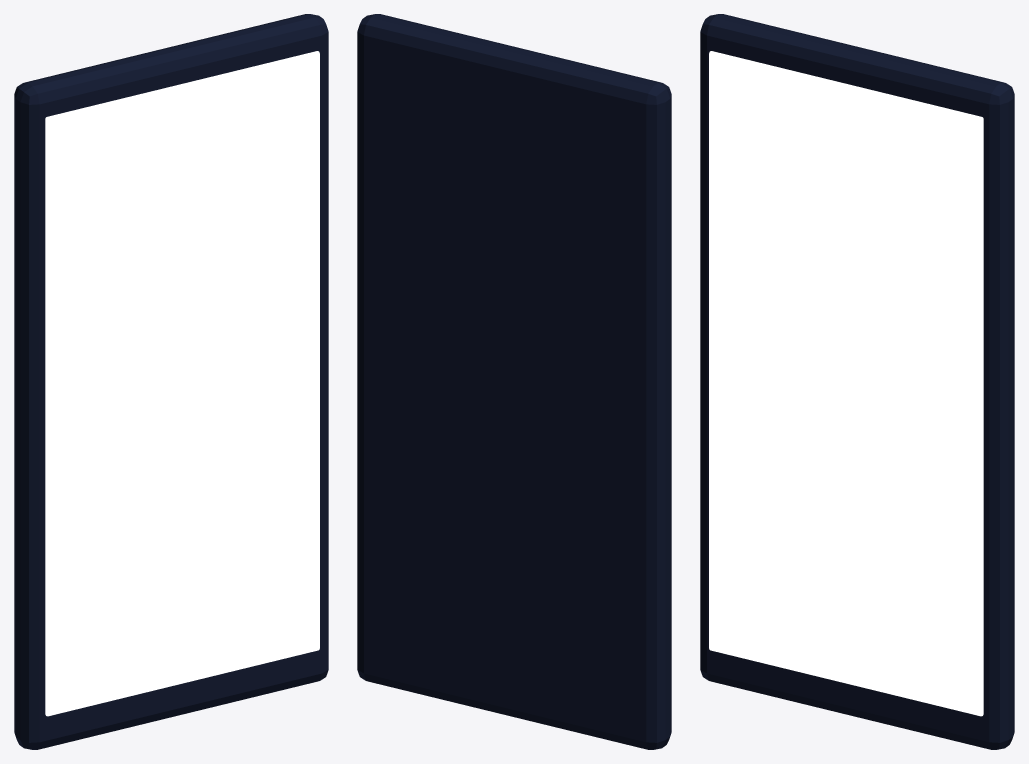
The model's file is Smartphone_blockout.glb.
The picture shows the model from 3 angles, left to right: view 1: azimuth 30°, elevation 25°; view 2: azimuth 150°, elevation 25°; view 3: azimuth 330°, elevation 25°; orthographic projection.
Parts seen in each view (by area): view 1: PRP03_Smartphone_Screen_L0, PRP03_Smartphone_Body_L0; view 2: PRP03_Smartphone_Body_L0; view 3: PRP03_Smartphone_Screen_L0, PRP03_Smartphone_Body_L0.
Part boxes in pixels (x1,y1,x2,y2): PRP03_Smartphone_Screen_L0: (45, 51, 319, 716); PRP03_Smartphone_Body_L0: (14, 14, 328, 749); PRP03_Smartphone_Body_L0: (357, 14, 671, 749); PRP03_Smartphone_Screen_L0: (709, 51, 983, 716); PRP03_Smartphone_Body_L0: (700, 14, 1014, 749).
Bounding box in the file's own units: 0.075 × 0.155 × 0.0092.
